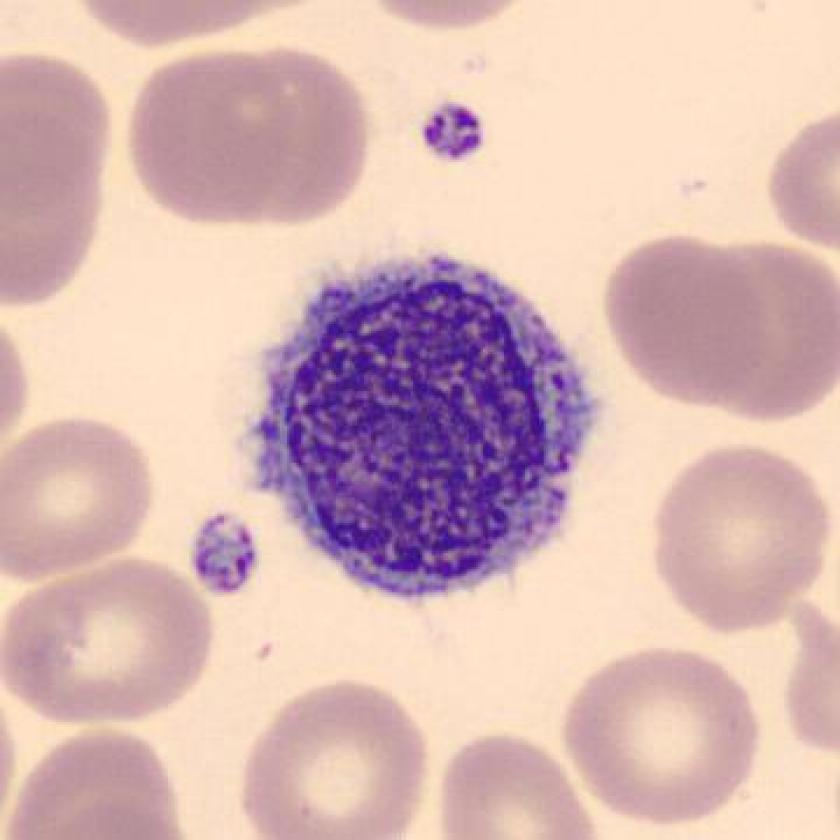monocyte: (235, 226, 613, 621)
